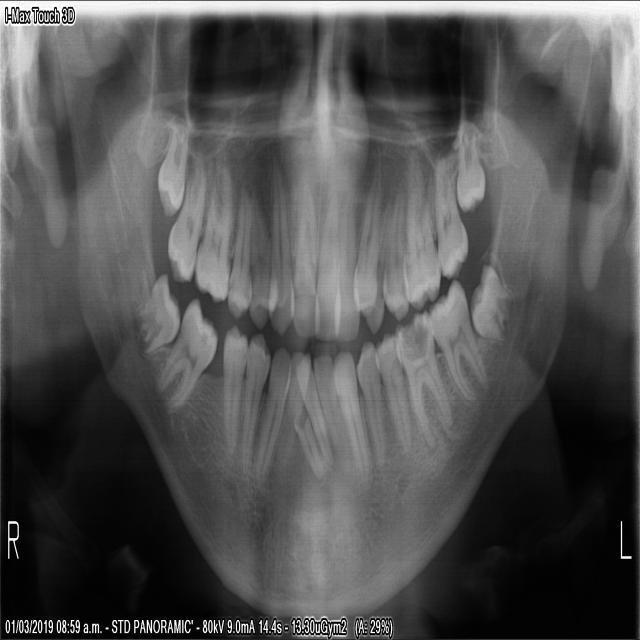LCD: (328, 345, 373, 492)
LIU: (332, 163, 360, 348), (311, 176, 340, 344)
LMD: (392, 305, 452, 451), (426, 274, 489, 407), (466, 260, 514, 347)
LMU: (399, 139, 441, 314), (430, 149, 469, 282), (452, 116, 486, 218)
LPMD: (372, 327, 410, 459), (352, 335, 389, 467)
LPMU: (347, 147, 386, 342), (379, 156, 410, 324)
RIU: (287, 165, 321, 343), (265, 148, 296, 337)
RMD: (152, 291, 217, 414), (131, 268, 180, 357)
RMU: (163, 140, 210, 286), (192, 158, 236, 310), (153, 112, 190, 221)
RPMD: (237, 327, 270, 489), (218, 318, 250, 474)
RPMU: (245, 165, 277, 332), (223, 171, 254, 325)
